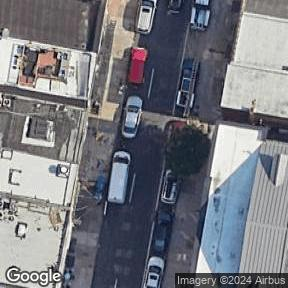vegetation: (155, 119, 217, 184)
